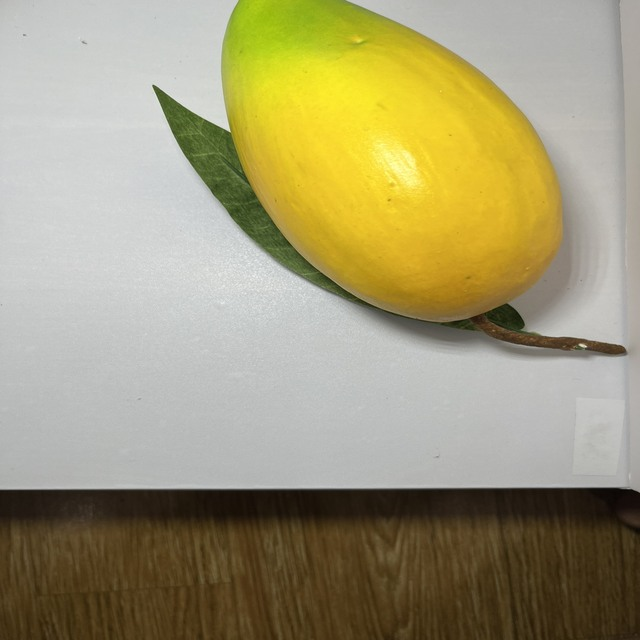Xoai: (218, 0, 565, 330)
